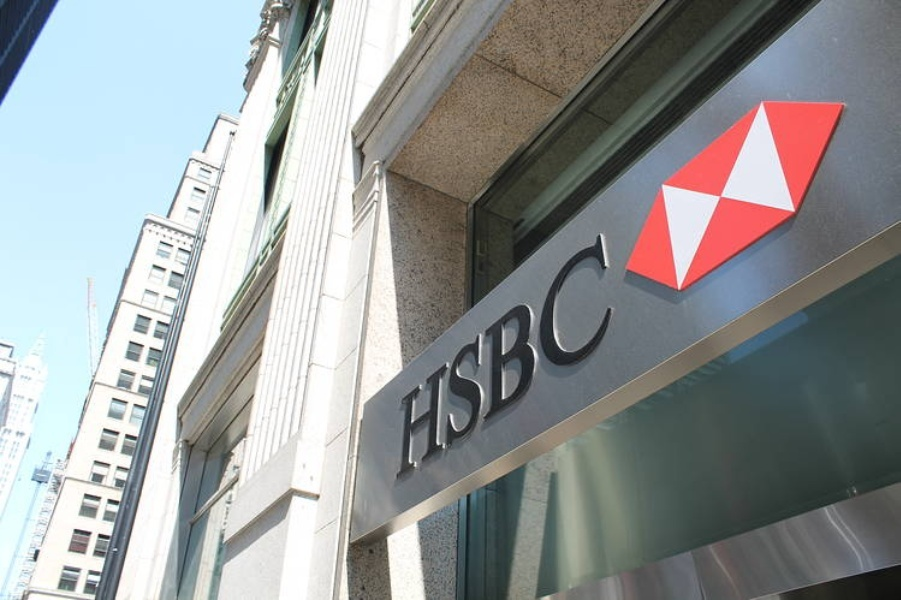text: (609, 223, 625, 491), (401, 223, 416, 491), (417, 223, 432, 491), (433, 223, 448, 491), (449, 223, 464, 491), (465, 223, 480, 491), (481, 223, 496, 491), (497, 223, 512, 491), (513, 223, 528, 491), (529, 223, 544, 491), (545, 223, 560, 491), (561, 223, 576, 491), (577, 223, 592, 491), (593, 223, 608, 491)
